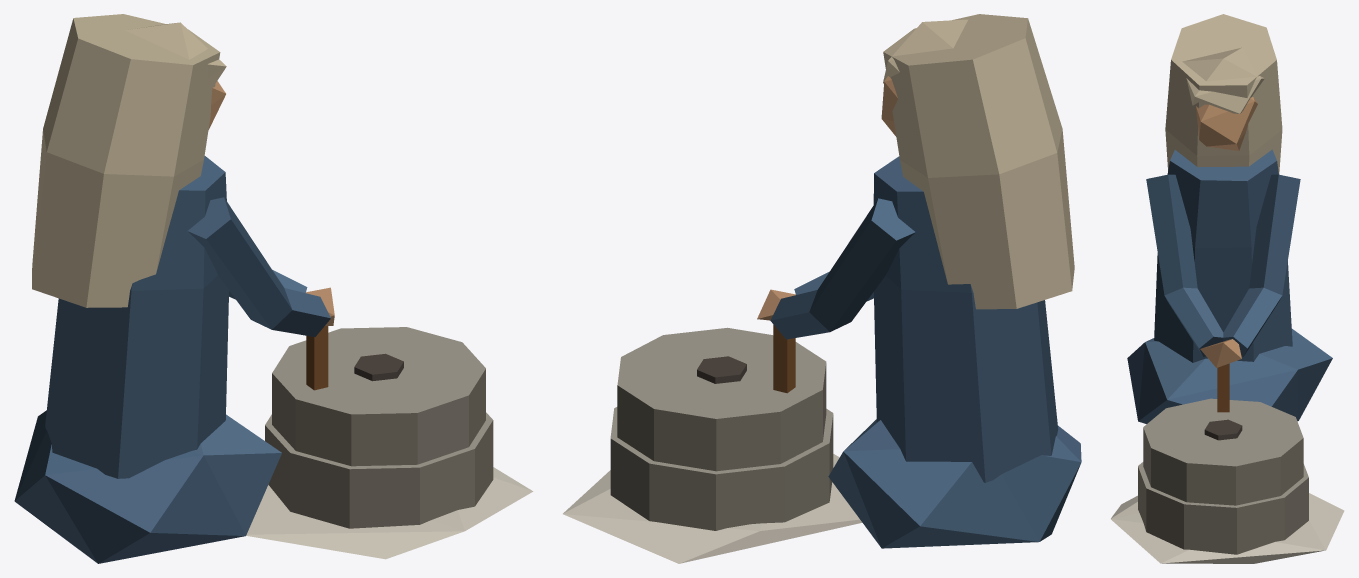
The model's file is grinder.glb.
3 renders of one model, left to right at view 1: azimuth 30°, elevation 25°; view 2: azimuth 150°, elevation 25°; view 3: azimuth 270°, elevation 25°, orthographic. The views are drawn at different scales.
Visible parts, largest first — view 1: base, stone_m, arms_m; view 2: base, stone_m, arms_m; view 3: base, stone_m, arms_m.
Part boxes in pixels (x1=…): base: x1=14, y1=14, x2=533, y2=563; stone_m: x1=272, y1=326, x2=485, y2=466; arms_m: x1=188, y1=197, x2=334, y2=336; base: x1=563, y1=14, x2=1081, y2=563; stone_m: x1=617, y1=324, x2=826, y2=471; arms_m: x1=757, y1=198, x2=915, y2=339; base: x1=1111, y1=14, x2=1344, y2=563; stone_m: x1=1143, y1=363, x2=1303, y2=505; arms_m: x1=1146, y1=174, x2=1300, y2=367.
Bounding box in the file's own units: 0.3718 × 0.4141 × 0.2164.
